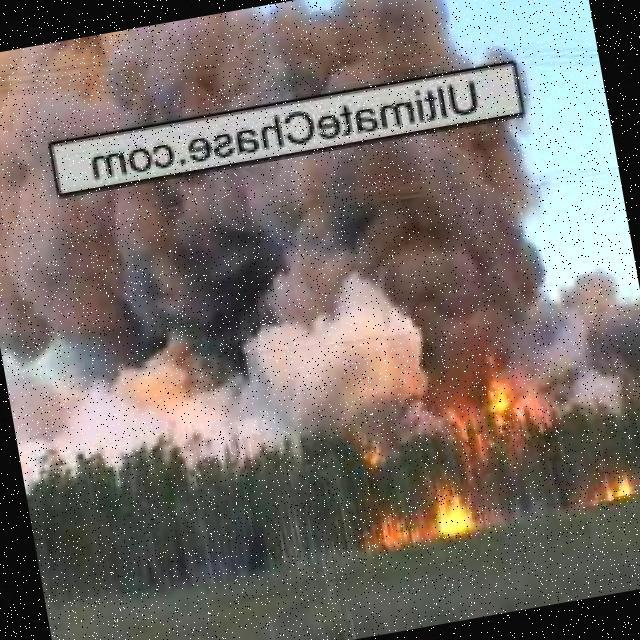Fire: (475, 355, 522, 423), (427, 478, 473, 539), (593, 477, 637, 503), (372, 519, 401, 553)
